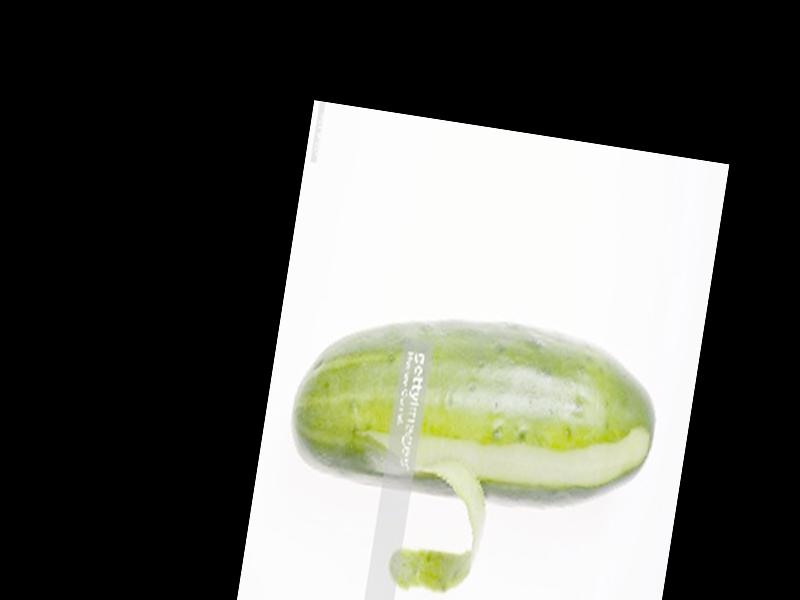Cucumber: (282, 294, 668, 530)
